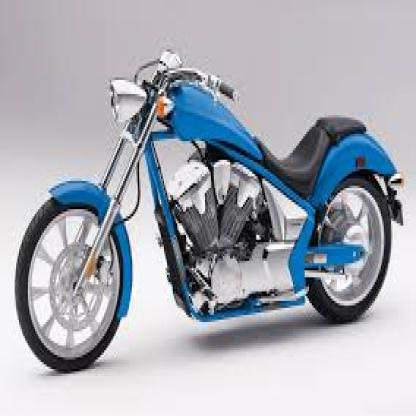bike: (12, 49, 403, 373)
